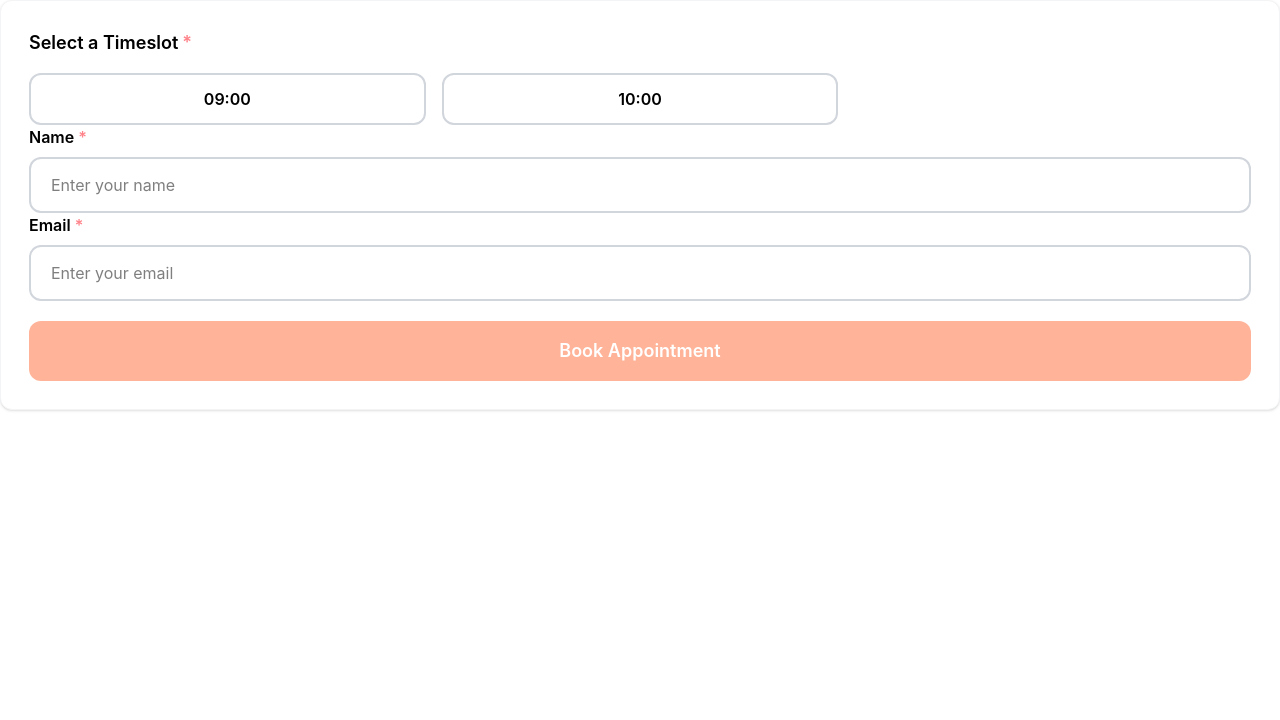
it: BookingForm › handles conflict error
Click the button "09:00". click: (227,99)
box: top-left (29, 73), bottom-right (426, 125)
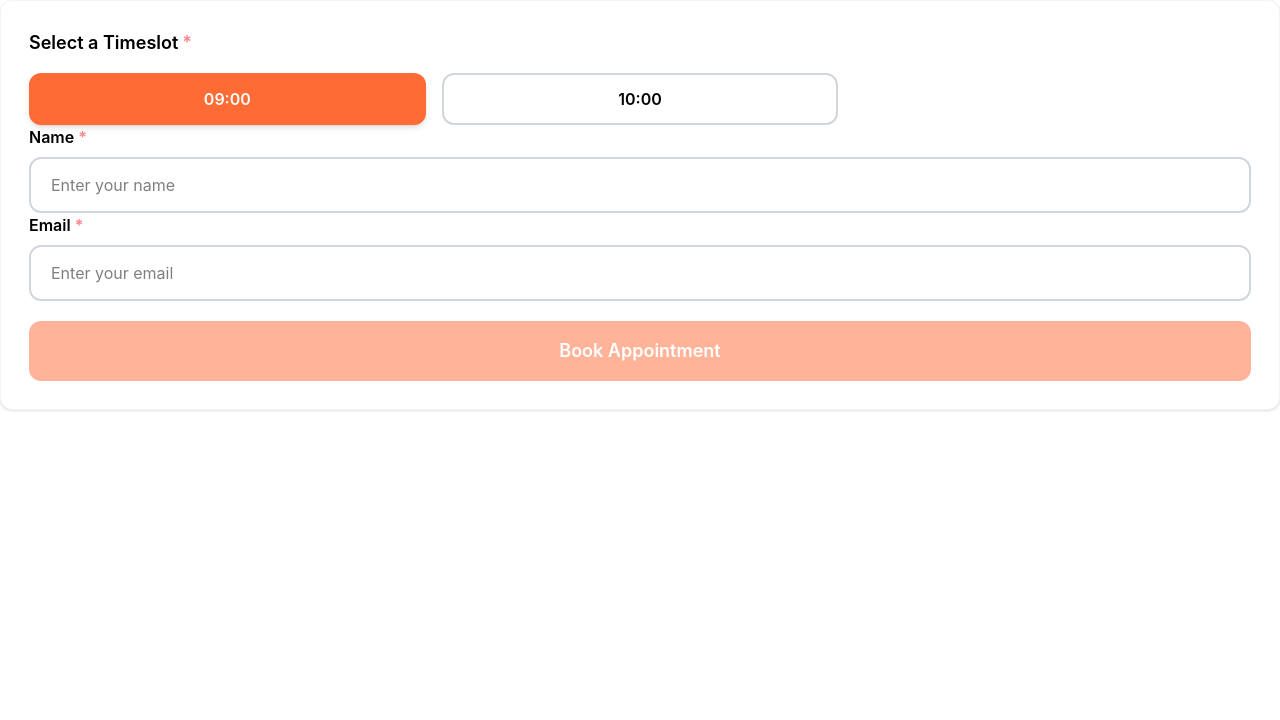
Type "John Doe" into the field labelled "Name*". click: (640,185)
box: top-left (29, 157), bottom-right (1251, 213)
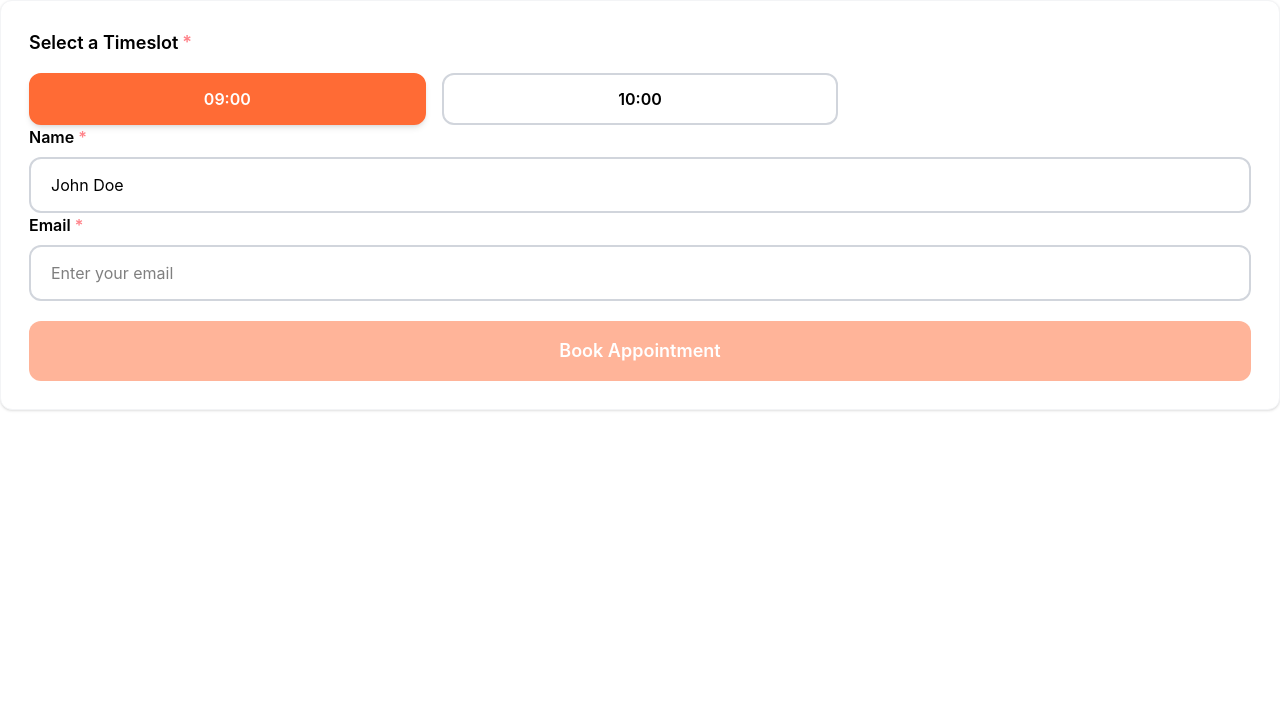
Type "john@example.com" into the field labelled "Email*". click: (640,273)
box: top-left (29, 245), bottom-right (1251, 301)
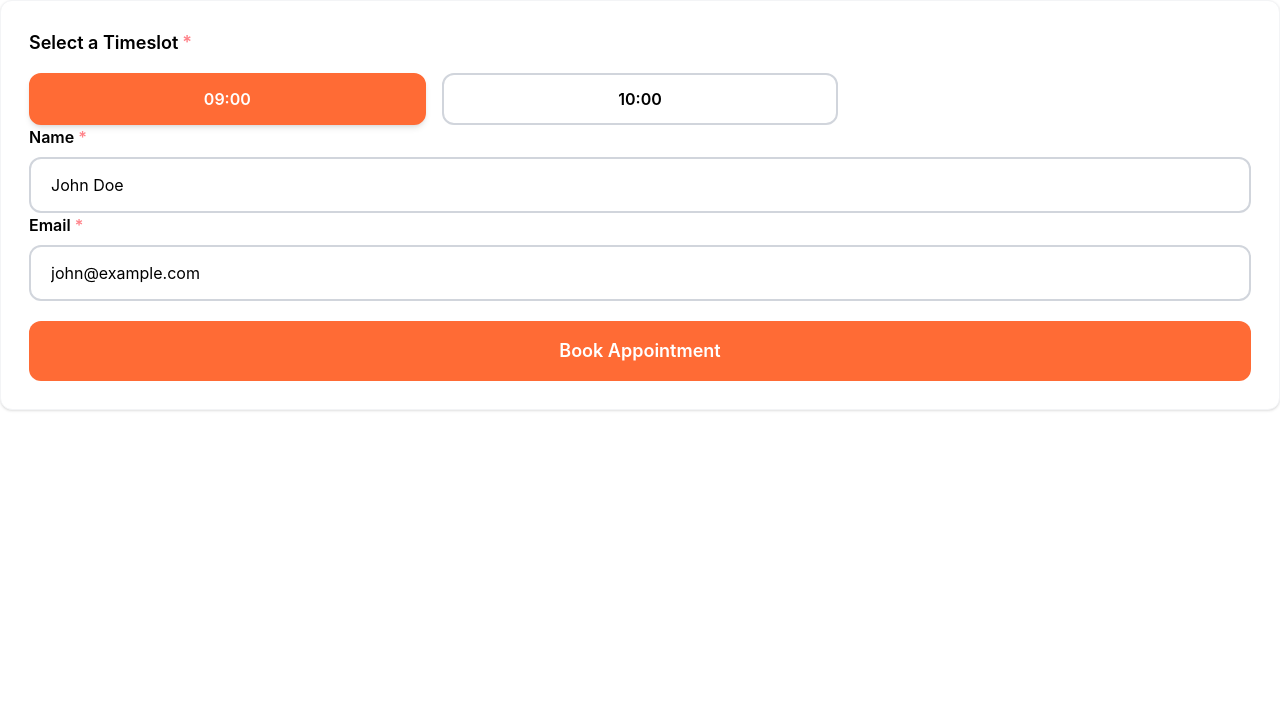
Click the button "Book Appointment". click: (640,351)
box: top-left (29, 321), bottom-right (1251, 381)
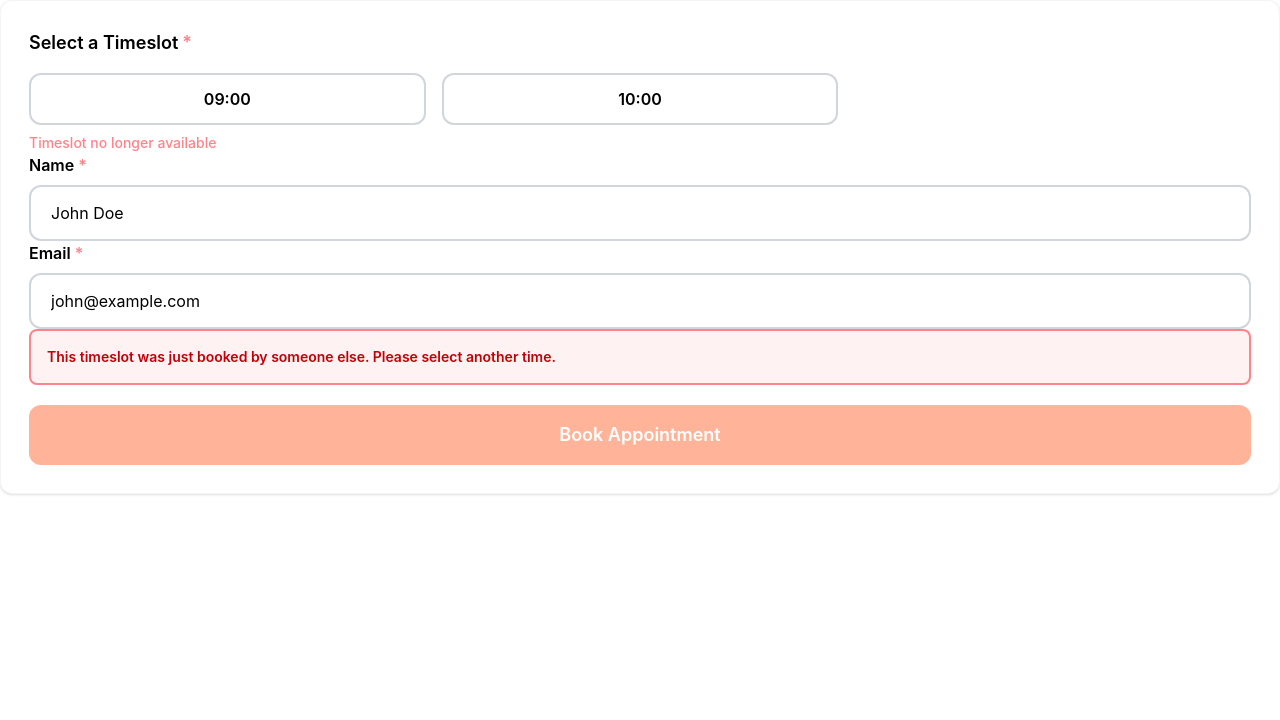
Check: the text "just booked by someone else" is shown, box top-left (47, 348), bottom-right (556, 365)
